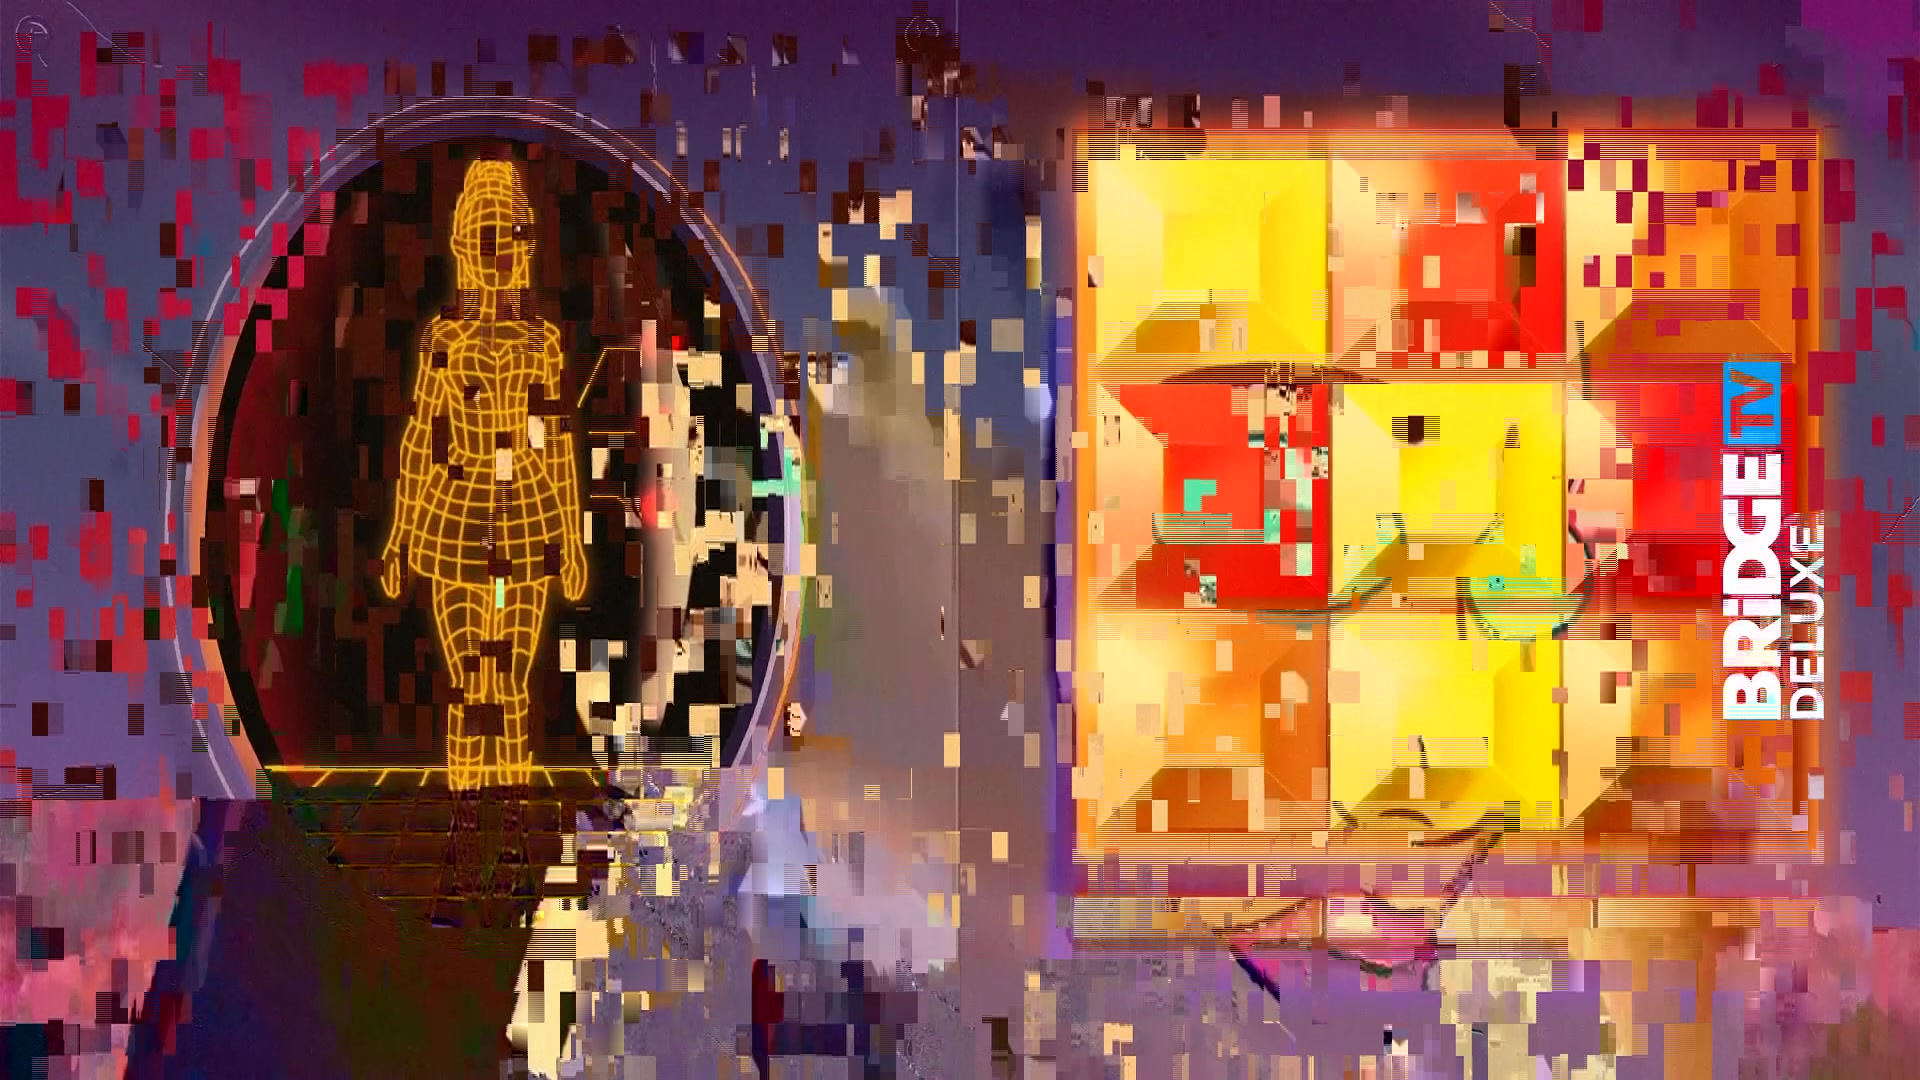Bridge_TV_Deluxe: (1718, 353, 1828, 724)
